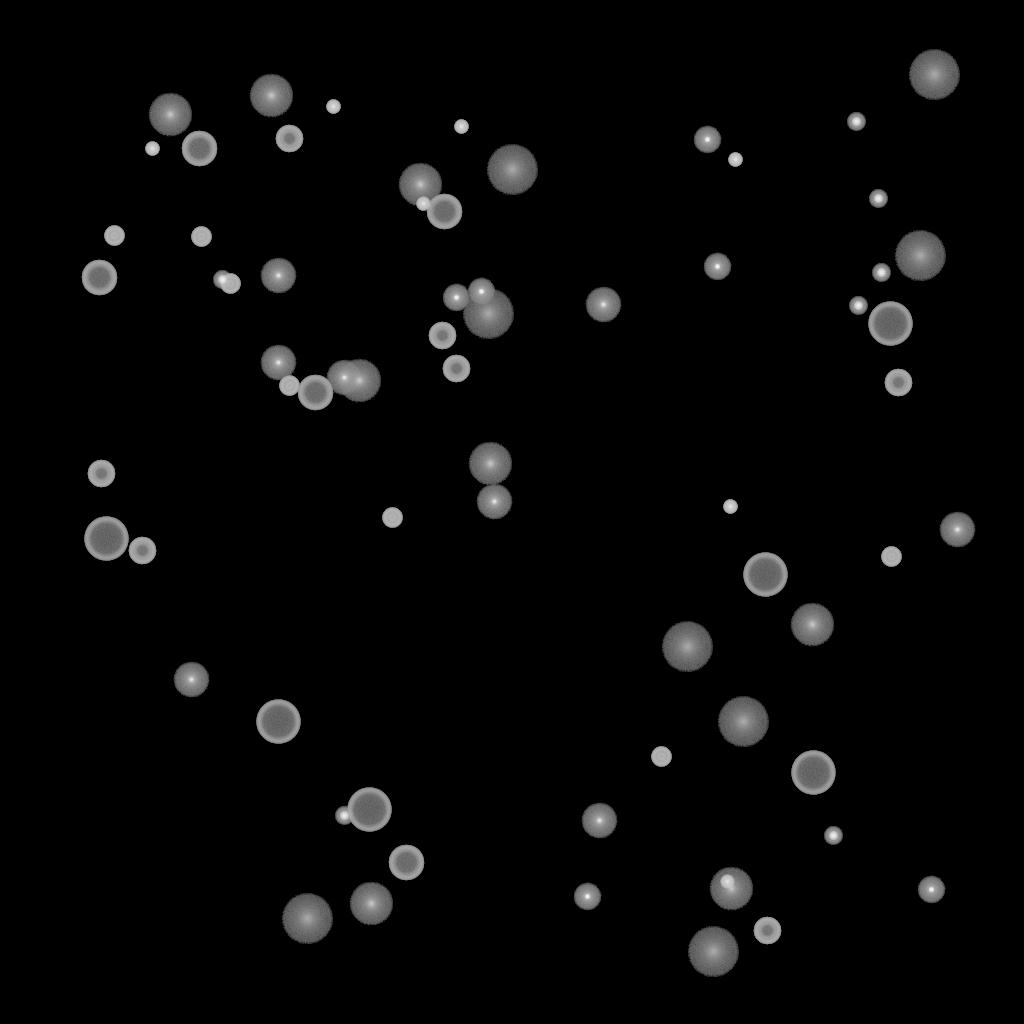depth:-10: (573, 883, 601, 911), (693, 126, 721, 154), (703, 253, 731, 281), (467, 278, 495, 306), (442, 284, 470, 312), (917, 876, 945, 904)
depth:-20: (335, 807, 353, 825), (824, 827, 842, 845), (213, 271, 231, 289), (872, 264, 890, 282), (849, 297, 867, 315), (869, 190, 887, 208), (847, 113, 865, 131)
depth:-30: (720, 875, 734, 889), (454, 120, 468, 134), (145, 142, 159, 156), (416, 197, 430, 211), (723, 500, 737, 514), (728, 153, 742, 167), (326, 100, 340, 114)
depth:-40: (220, 274, 240, 294), (191, 227, 211, 247), (651, 747, 671, 767), (104, 226, 124, 246), (279, 376, 299, 396), (382, 508, 402, 528), (881, 547, 901, 567)
depth:-50: (884, 369, 912, 397), (428, 322, 456, 350), (87, 460, 115, 488), (753, 917, 781, 945), (275, 125, 303, 153), (442, 355, 470, 383), (128, 537, 156, 565)
depth:-60: (81, 260, 117, 296), (297, 375, 333, 411), (181, 131, 217, 167), (426, 194, 462, 230), (388, 845, 424, 881)
depth:-70: (868, 302, 912, 346), (256, 700, 300, 744), (347, 788, 391, 832), (84, 517, 128, 561), (743, 553, 787, 597), (791, 751, 835, 795)
depth:0: (260, 258, 296, 294), (585, 287, 621, 323), (173, 662, 209, 698), (260, 345, 296, 381), (939, 512, 975, 548), (581, 803, 617, 839), (326, 360, 362, 396), (476, 484, 512, 520)
depth:10: (709, 867, 753, 911), (249, 74, 293, 118), (349, 882, 393, 926), (337, 359, 381, 403), (148, 93, 192, 137), (398, 163, 442, 207), (468, 442, 512, 486), (790, 603, 834, 647)
depth:20: (281, 894, 333, 944), (486, 145, 538, 195), (717, 697, 769, 747), (462, 289, 514, 339), (894, 231, 946, 281), (661, 622, 713, 672), (687, 927, 739, 977), (908, 50, 960, 100)
